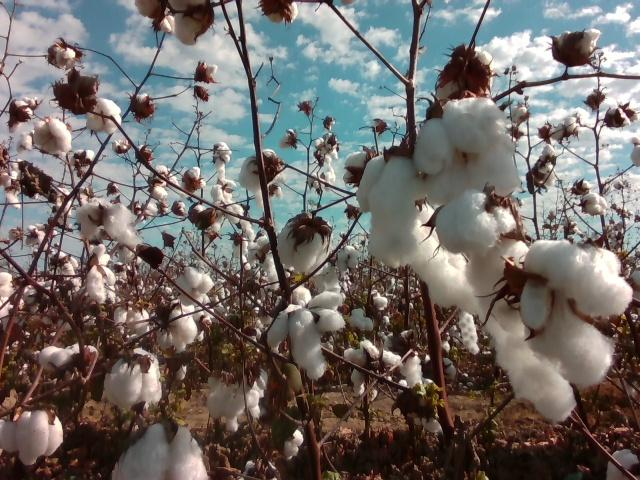cotton_ready: (356, 155, 576, 424), (519, 242, 633, 387), (436, 190, 529, 336), (414, 99, 521, 202), (266, 287, 347, 381), (111, 419, 208, 480), (207, 368, 269, 434), (101, 348, 162, 412), (0, 410, 64, 466), (73, 200, 144, 248), (276, 218, 333, 277), (400, 330, 451, 394), (434, 48, 493, 102), (345, 340, 401, 387), (169, 0, 213, 46), (157, 299, 196, 350), (240, 148, 282, 190), (86, 244, 115, 303), (249, 236, 280, 290), (38, 344, 99, 371), (555, 29, 603, 61), (209, 179, 243, 223), (33, 119, 72, 156), (85, 99, 123, 133), (174, 268, 213, 300), (150, 166, 178, 202), (116, 307, 151, 335), (607, 451, 640, 480), (460, 311, 480, 356), (191, 204, 222, 232), (9, 99, 33, 133), (281, 429, 305, 461), (267, 0, 299, 24), (537, 145, 556, 184), (0, 271, 15, 316), (580, 193, 608, 216), (349, 308, 374, 333), (51, 47, 79, 69), (137, 0, 165, 17), (160, 15, 177, 35)
